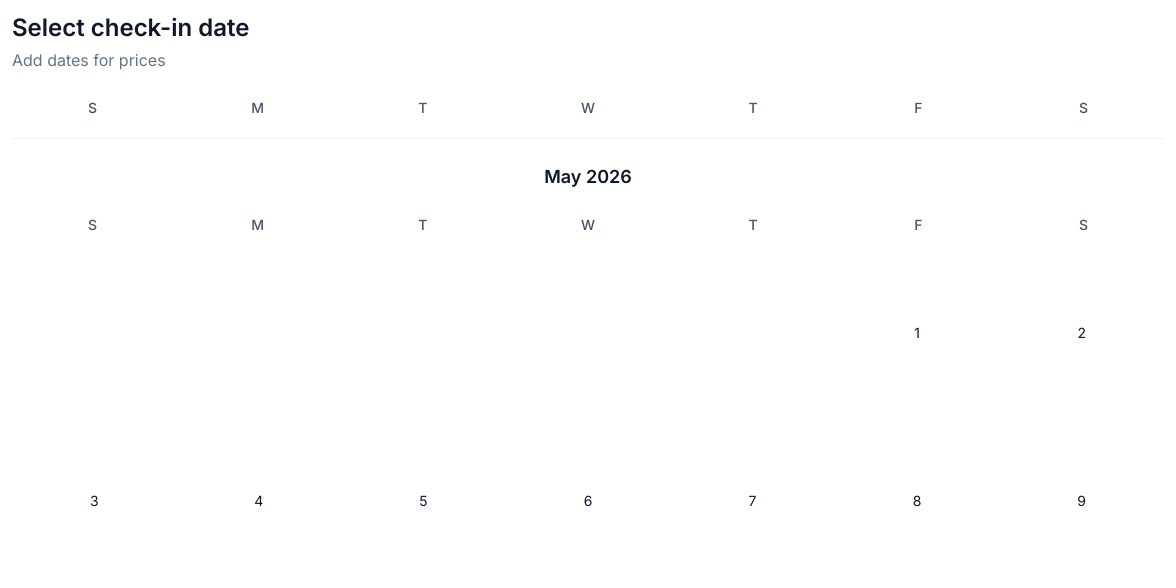
Test: AirbnbCalendar › prompts for check-out after selecting a check-in date
The image size is (1176, 588).
Click the button "1".
click(917, 333)  # box [835, 251, 999, 415]
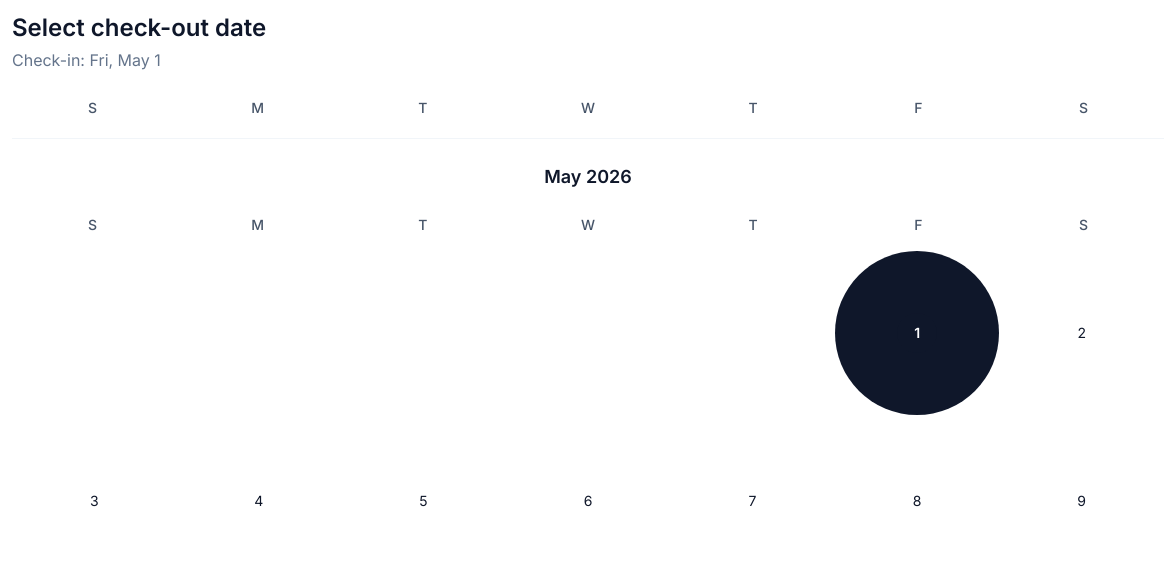
Expected: the heading "Select check-out date" is shown, [12, 13, 266, 42]
Expected: the text "Check-in: Fri, May 1" is shown, [12, 50, 161, 70]
